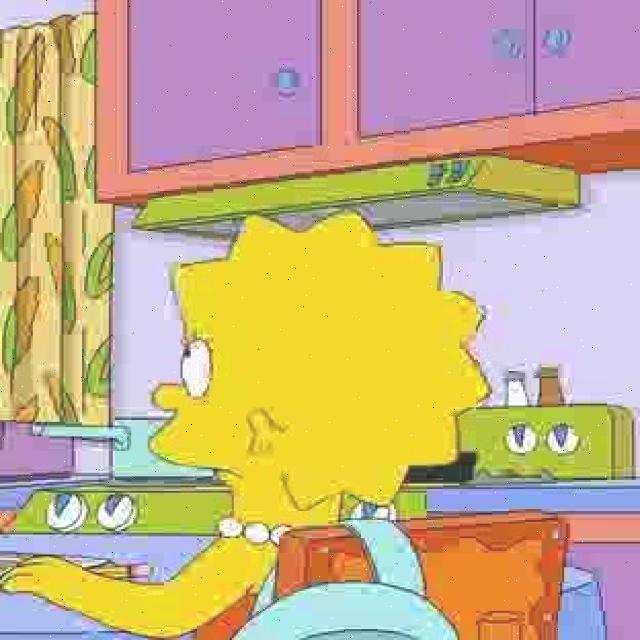Lisa Simpson: (147, 210, 498, 550)
